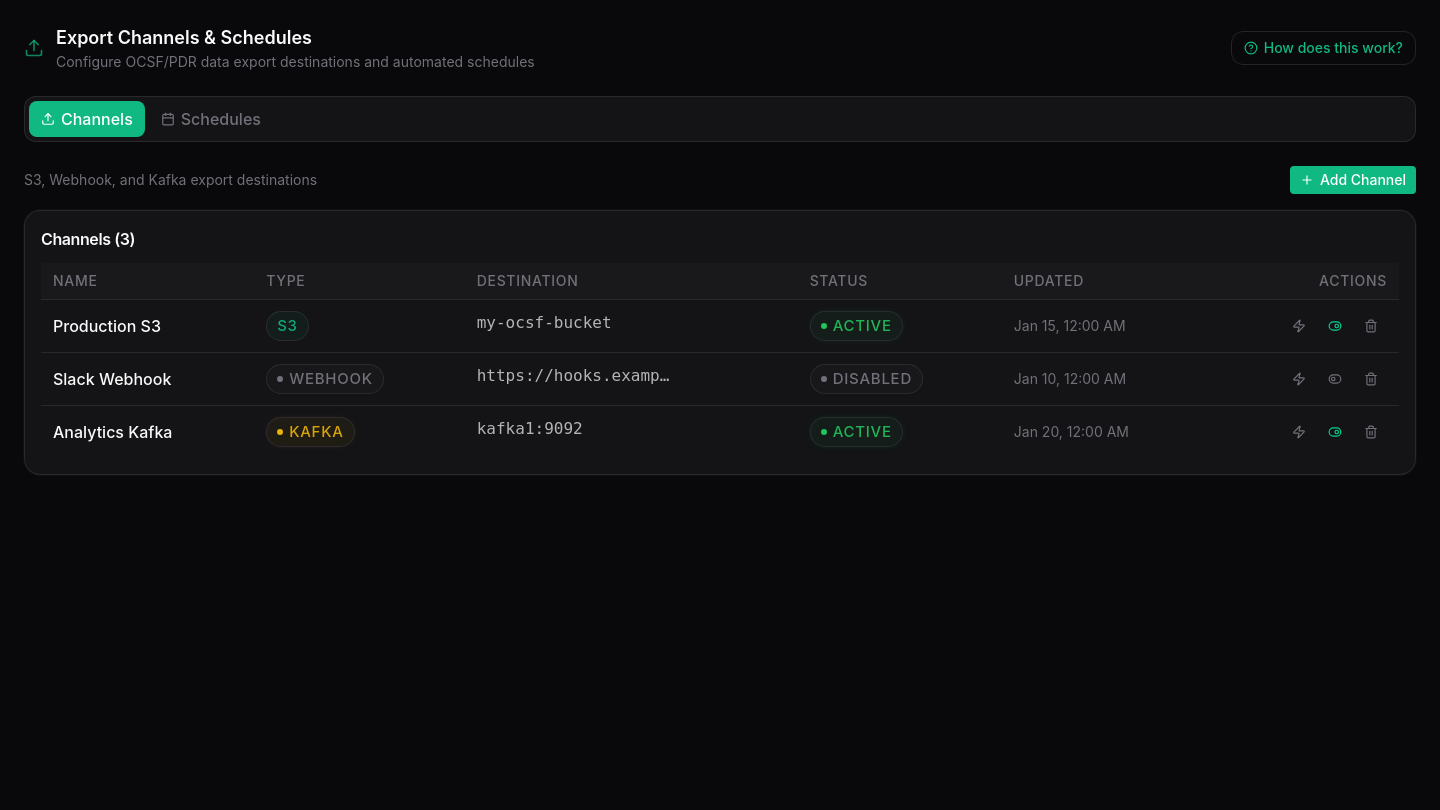
Test: ExportsPage › shows Add Channel button and opens form
The width and height of the screenshot is (1440, 810).
Step 1. Click the button "Add Channel" → (1353, 180), box [1290,166,1416,194]
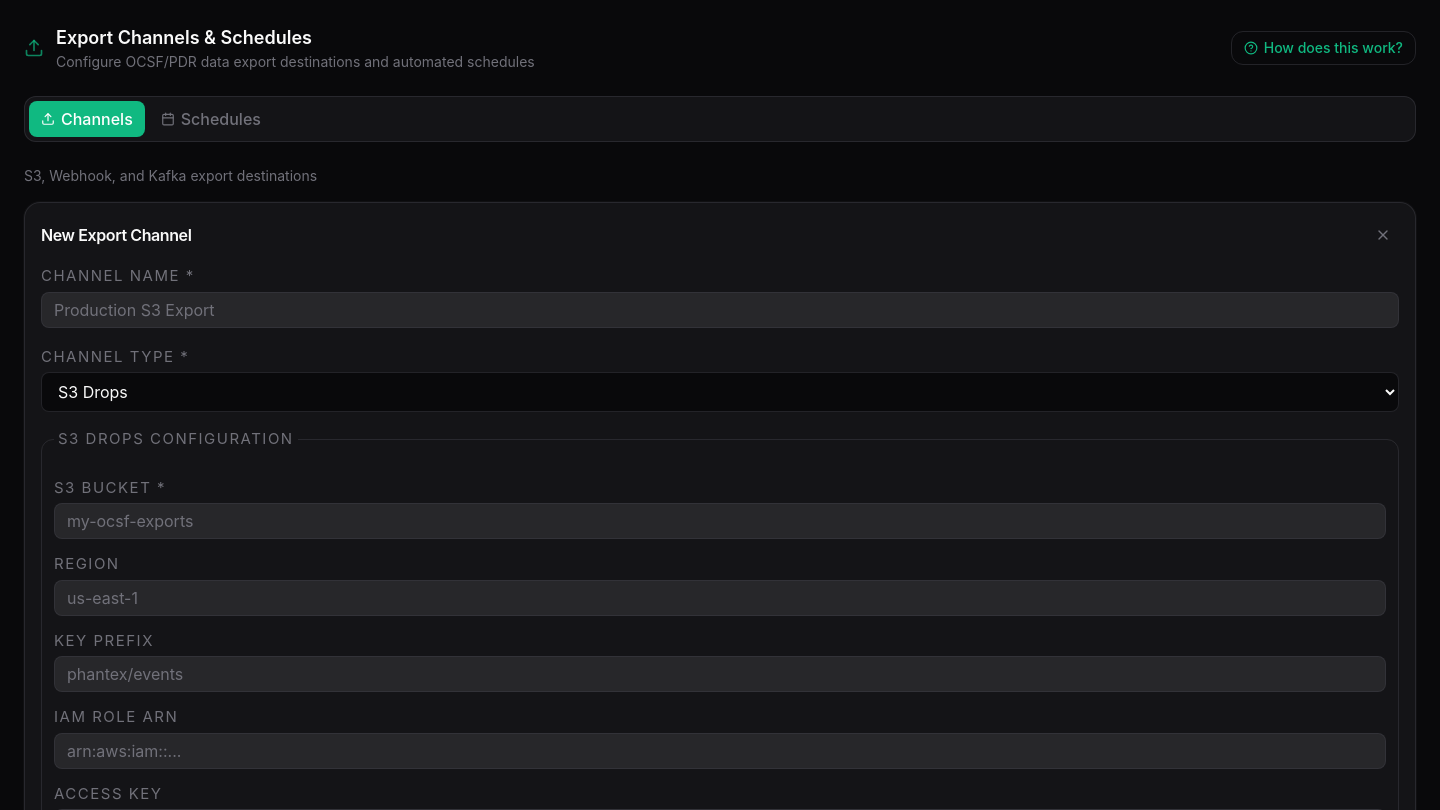
Result: the text "New Export Channel" is shown at [41,223,192,247]
Result: the field labelled "Channel Name *" is shown at [41,292,1399,328]
